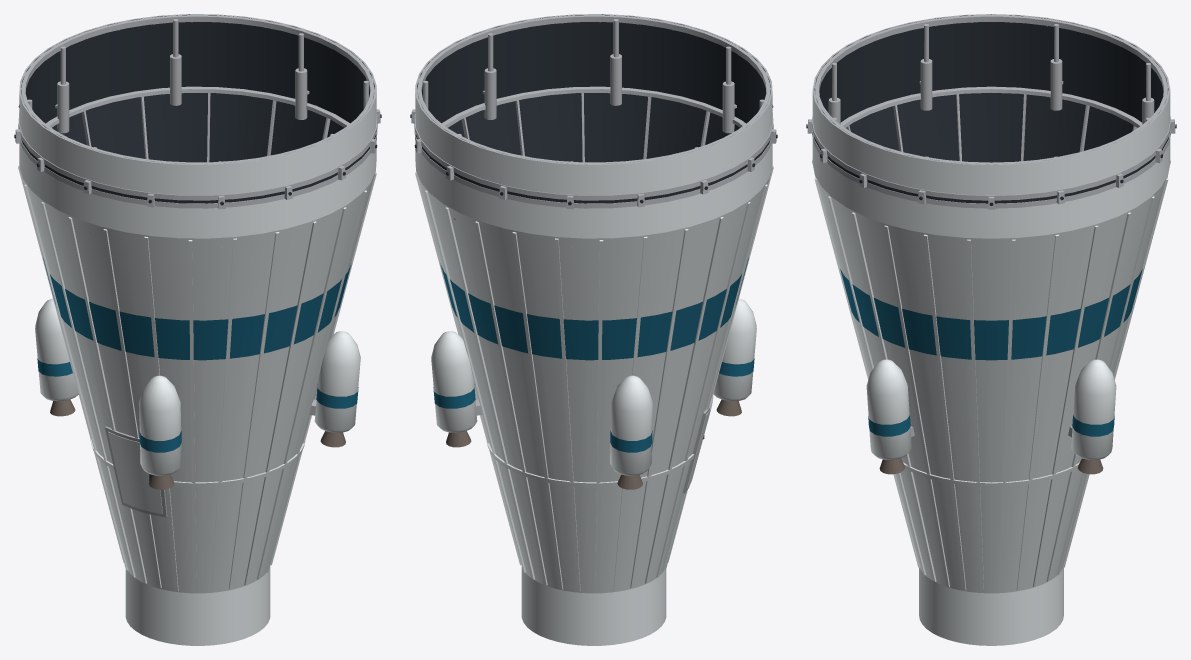
File: interstage_pyro_d15_to_d37.glb
3 views of the same model, side by side, from view 1: azimuth 30°, elevation 25°; view 2: azimuth 150°, elevation 25°; view 3: azimuth 270°, elevation 25° (orthographic).
Parts seen in each view (by area): view 1: interstage_pyro_d15_to_d37_mesh; view 2: interstage_pyro_d15_to_d37_mesh; view 3: interstage_pyro_d15_to_d37_mesh.
Part boxes in pixels (x1,y1,x2,y2): interstage_pyro_d15_to_d37_mesh: (14,14,381,645); interstage_pyro_d15_to_d37_mesh: (410,14,777,645); interstage_pyro_d15_to_d37_mesh: (806,14,1176,645).
Bounding box in the file's own units: 3.83 × 6 × 3.83.
